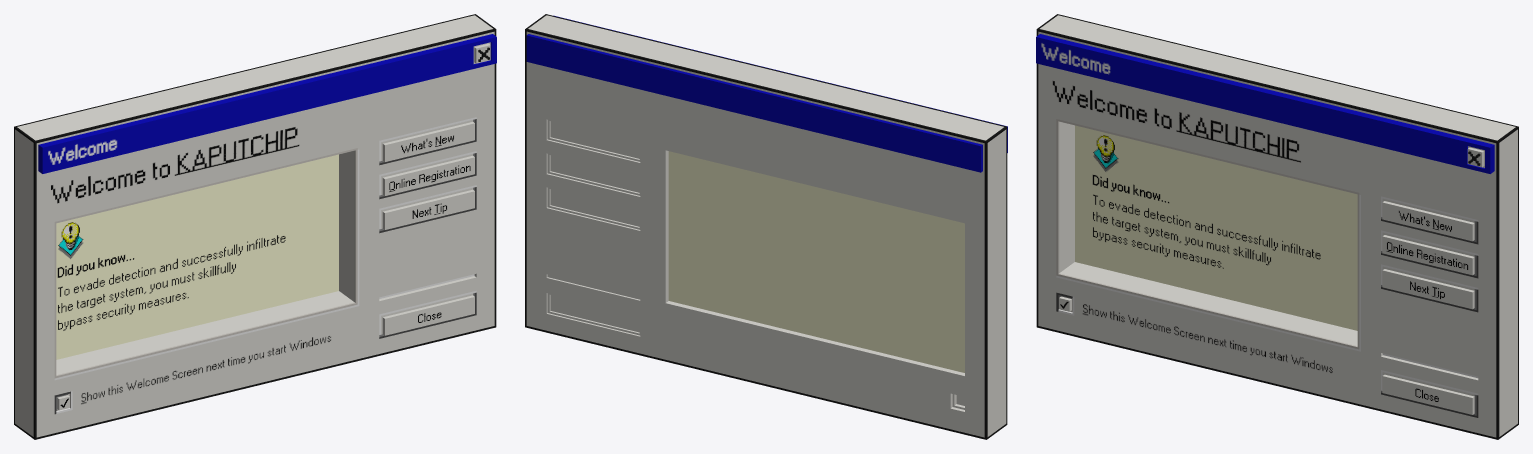
File: WelcomeWindow.fbx
The picture shows the model from 3 angles, left to right: view 1: azimuth 30°, elevation 25°; view 2: azimuth 150°, elevation 25°; view 3: azimuth 330°, elevation 25°; orthographic projection.
Parts seen in each view (by area): view 1: Untitled.121, Untitled.116, Untitled.119, Untitled.117, Untitled.118; view 2: Untitled.121, Untitled.116, Untitled.117, Untitled.119, Untitled.118; view 3: Untitled.121, Untitled.116, Untitled.119, Untitled.117, Untitled.118.
Boxes of the visible parts, bbox=[...] form: Untitled.121: bbox=[15, 15, 494, 437]; Untitled.116: bbox=[56, 154, 338, 359]; Untitled.119: bbox=[14, 14, 496, 439]; Untitled.117: bbox=[38, 34, 496, 173]; Untitled.118: bbox=[59, 123, 474, 410]; Untitled.121: bbox=[526, 15, 1006, 437]; Untitled.116: bbox=[668, 151, 964, 372]; Untitled.117: bbox=[526, 15, 1007, 172]; Untitled.119: bbox=[525, 14, 1007, 439]; Untitled.118: bbox=[550, 121, 964, 405]; Untitled.121: bbox=[1038, 15, 1517, 437]; Untitled.116: bbox=[1075, 125, 1357, 330]; Untitled.119: bbox=[1036, 14, 1518, 439]; Untitled.117: bbox=[1036, 34, 1494, 173]; Untitled.118: bbox=[1059, 202, 1472, 414].
Bounding box in the file's own units: 2560 × 1580 × 280.
